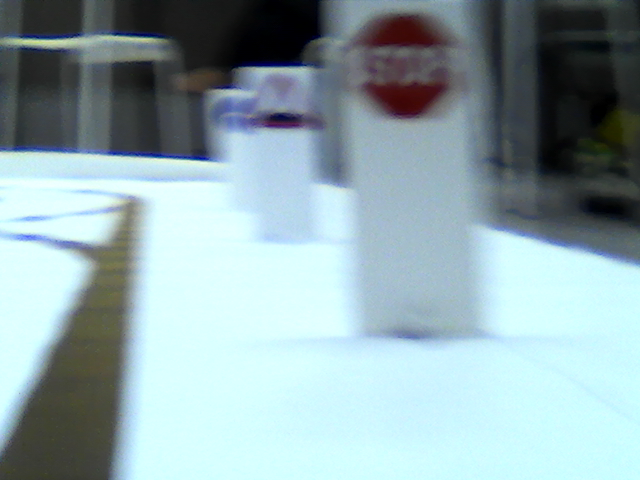Stop: (356, 13, 449, 112)
